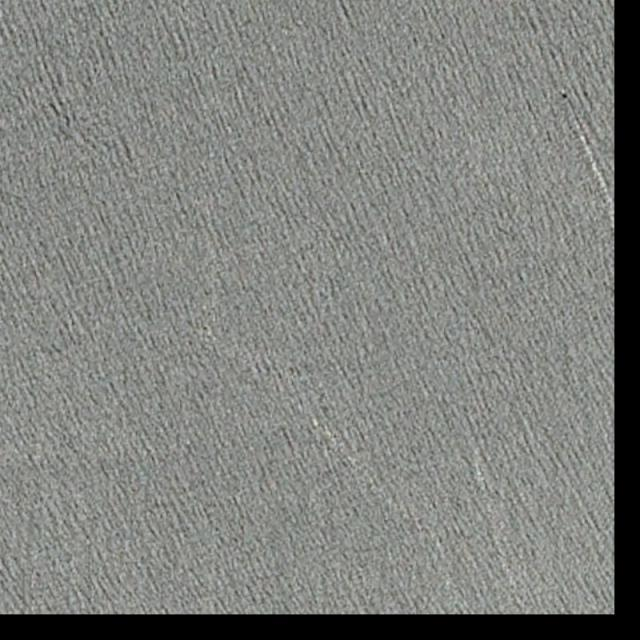ship: (561, 89, 570, 102)
